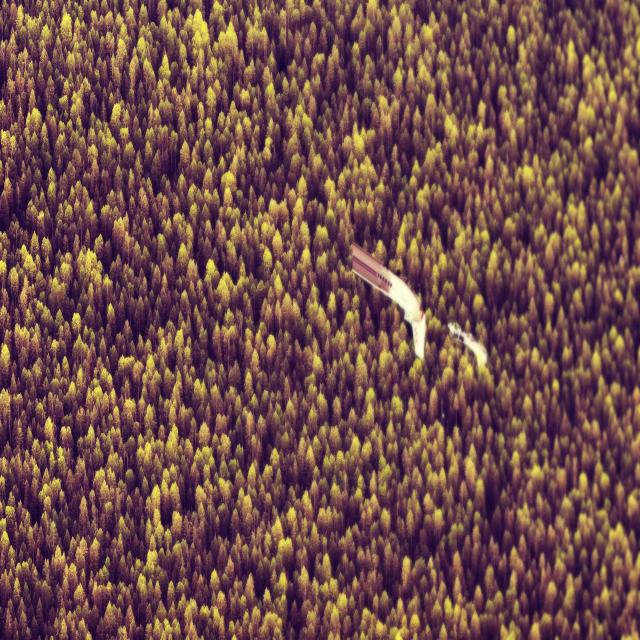airplane: (351, 240, 426, 360), (447, 321, 488, 369)
